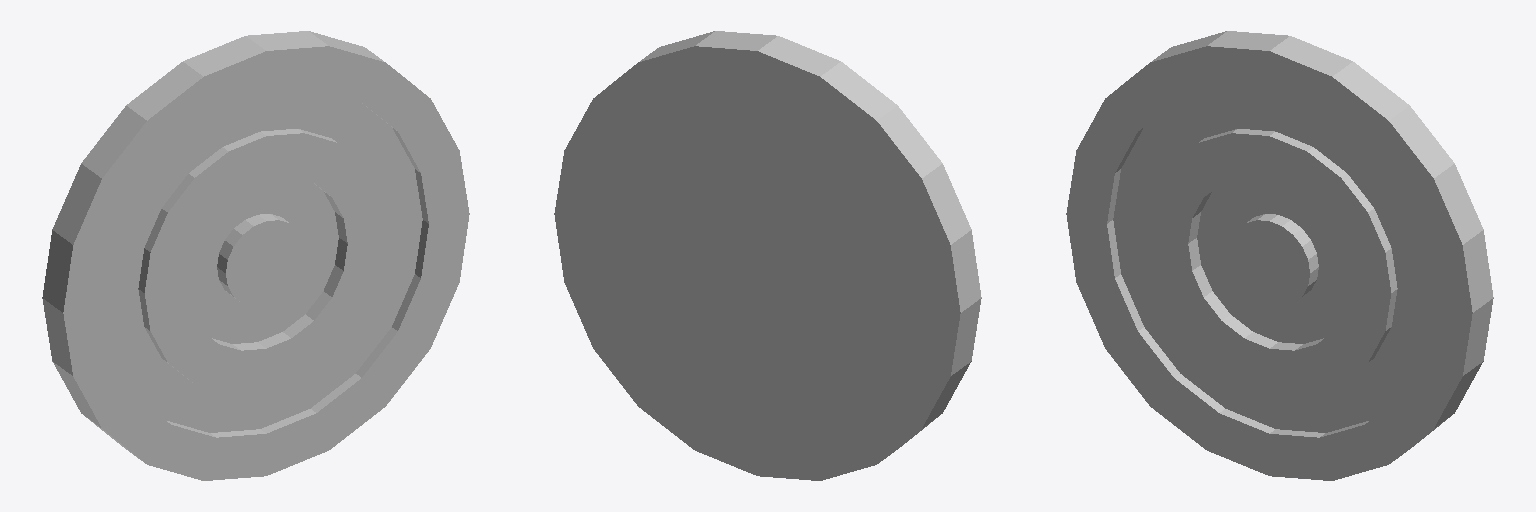
Rendered from target.obj.
3 renders of one model, left to right at view 1: azimuth 30°, elevation 25°; view 2: azimuth 150°, elevation 25°; view 3: azimuth 330°, elevation 25°, orthographic.
Size of the model in its own units: 5.05 by 5.05 by 0.4523.